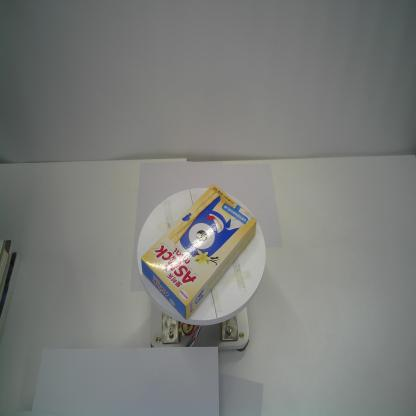Dessert: (140, 181, 258, 323)
